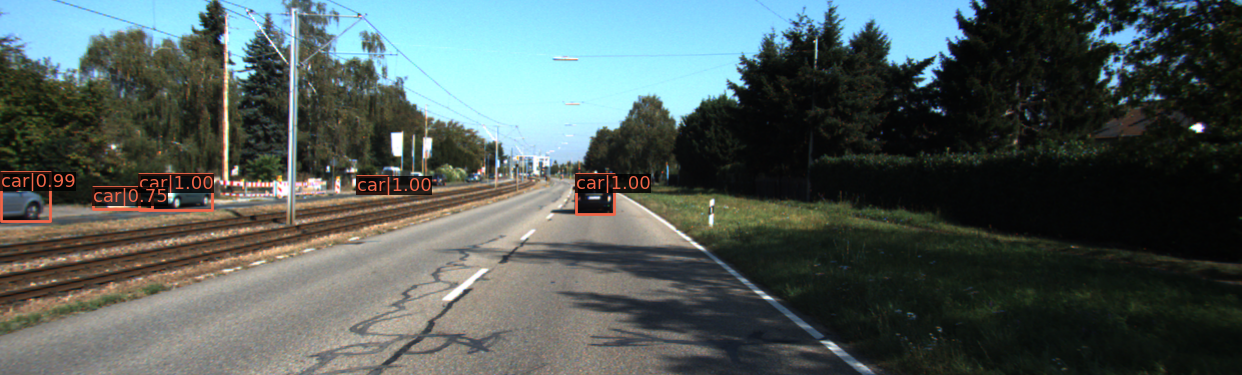car: (140, 178, 215, 211), (1, 171, 46, 224), (576, 176, 615, 215), (356, 177, 388, 194)
